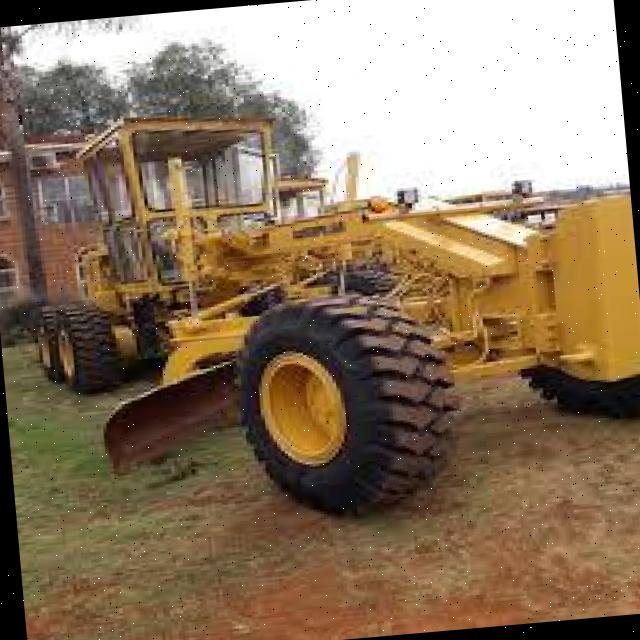Grader: (2, 44, 640, 550)
